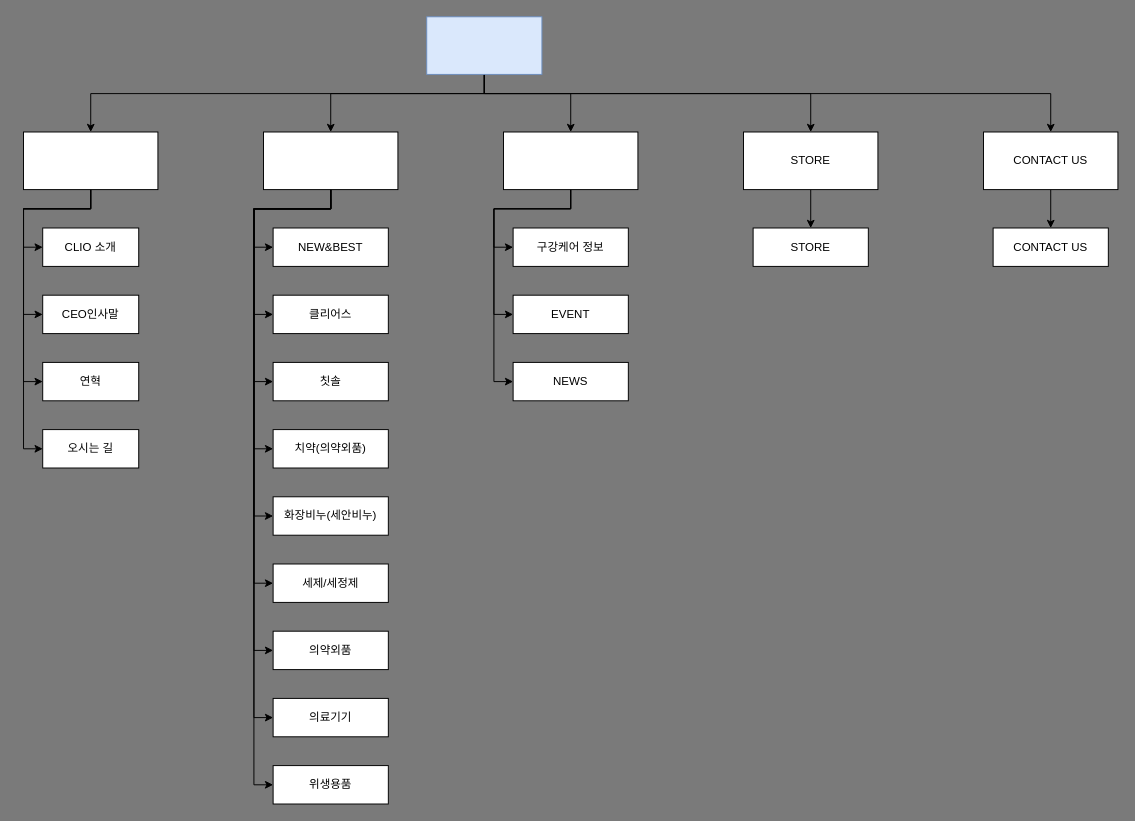
This 1135x821 diagram has some shape labels left out. Here are the shapes that lost their labels. From the top down, the centre of each, then its label:
point (484, 45): MAIN PAGE
point (90, 160): COMPANY
point (330, 160): PRODUCT
point (570, 160): Clean CLIO
